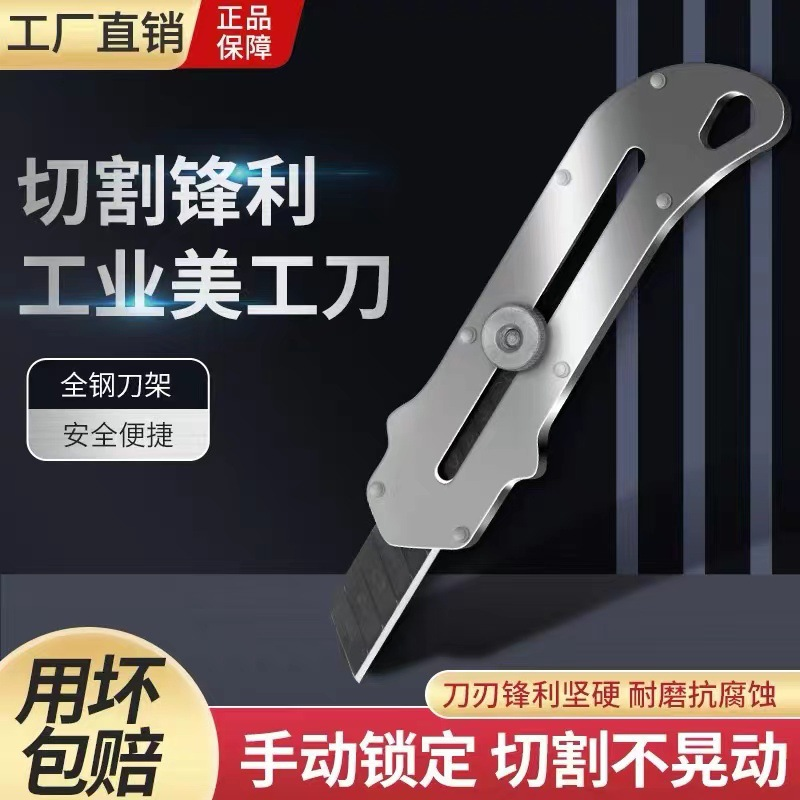cutter: (327, 62, 790, 690)
